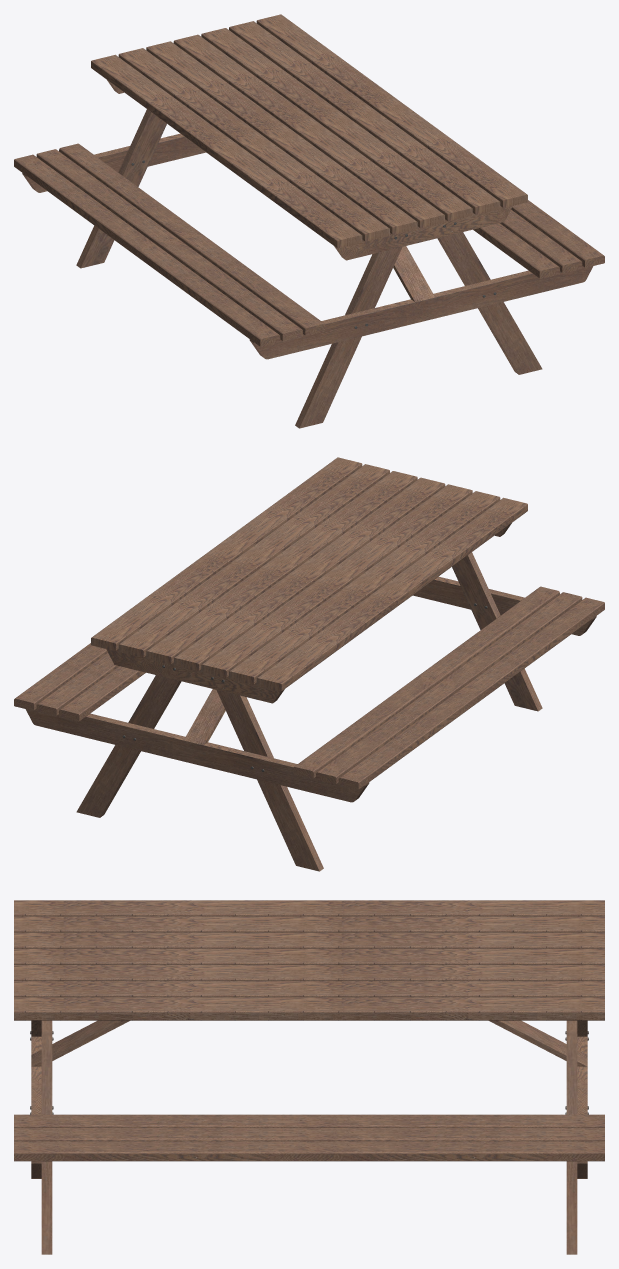
The model's file is picnic_table_1.glb.
The picture shows the model from 3 angles, top to bottom: view 1: azimuth 30°, elevation 25°; view 2: azimuth 150°, elevation 25°; view 3: azimuth 270°, elevation 25°; orthographic projection. The views are drawn at different scales.
Visible parts, largest first — view 1: Component_6_4, Component_4_1, Component_6_5, Component_6_1, Component_6_2, Component_6_3, Component_6_6, Component_6_7, Component_5_5, Component_5_1, Component_5_2, Component_3_1 (+8 smaller); view 2: Component_6_4, Component_4_2, Component_6_5, Component_6_1, Component_6_2, Component_6_3, Component_6_6, Component_6_7, Component_5_5, Component_5_1, Component_5_2, Component_3_3 (+8 smaller); view 3: Component_6_3, Component_5_6, Component_6_1, Component_6_2, Component_6_4, Component_6_5, Component_6_7, Component_6_6, Component_5_3, Component_5_4, Component_3_2, Component_3_4 (+4 smaller).
Part boxes in pixels (x1=…): Component_6_4: x1=91, y1=54, x2=362, y2=248; Component_4_1: x1=249, y1=266, x2=593, y2=359; Component_6_5: x1=229, y1=21, x2=500, y2=214; Component_6_1: x1=146, y1=41, x2=417, y2=234; Component_6_2: x1=118, y1=48, x2=389, y2=241; Component_6_3: x1=256, y1=14, x2=527, y2=208; Component_6_6: x1=201, y1=28, x2=472, y2=221; Component_6_7: x1=173, y1=34, x2=444, y2=228; Component_5_5: x1=14, y1=154, x2=280, y2=346; Component_5_1: x1=59, y1=143, x2=325, y2=335; Component_5_2: x1=36, y1=149, x2=302, y2=341; Component_3_1: x1=295, y1=247, x2=402, y2=428; Component_6_4: x1=256, y1=497, x2=527, y2=691; Component_4_2: x1=25, y1=709, x2=369, y2=802; Component_6_5: x1=118, y1=464, x2=389, y2=657; Component_6_1: x1=201, y1=484, x2=472, y2=677; Component_6_2: x1=229, y1=491, x2=500, y2=684; Component_6_3: x1=91, y1=457, x2=362, y2=651; Component_6_6: x1=146, y1=471, x2=417, y2=664; Component_6_7: x1=174, y1=477, x2=445, y2=671; Component_5_5: x1=338, y1=597, x2=604, y2=789; Component_5_1: x1=293, y1=586, x2=559, y2=778; Component_5_2: x1=316, y1=592, x2=582, y2=784; Component_3_3: x1=216, y1=690, x2=323, y2=871; Component_6_3: x1=14, y1=997, x2=604, y2=1020; Component_5_6: x1=14, y1=1141, x2=604, y2=1161; Component_6_1: x1=14, y1=932, x2=604, y2=948; Component_6_2: x1=14, y1=916, x2=604, y2=932; Component_6_4: x1=14, y1=900, x2=604, y2=916; Component_6_5: x1=14, y1=981, x2=604, y2=997; Component_6_7: x1=14, y1=948, x2=604, y2=964; Component_6_6: x1=14, y1=965, x2=604, y2=980; Component_5_3: x1=14, y1=1114, x2=604, y2=1127; Component_5_4: x1=14, y1=1128, x2=604, y2=1141; Component_3_2: x1=41, y1=1020, x2=52, y2=1254; Component_3_4: x1=566, y1=1020, x2=577, y2=1254.
Bounding box in the file's own units: 1.37 × 0.7227 × 1.7.
3 materials, 3 textured.
